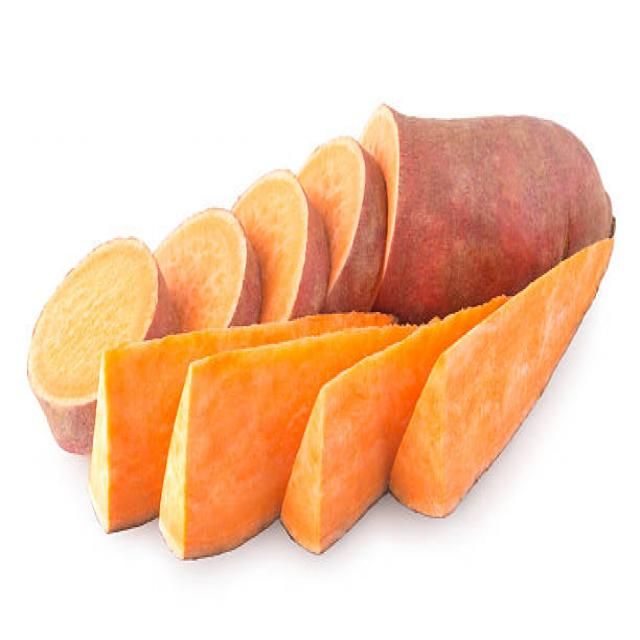sweet potato: (385, 102, 622, 239), (25, 234, 171, 342)
